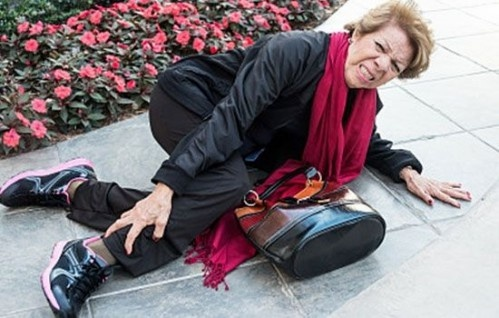falling: (22, 0, 472, 314)
